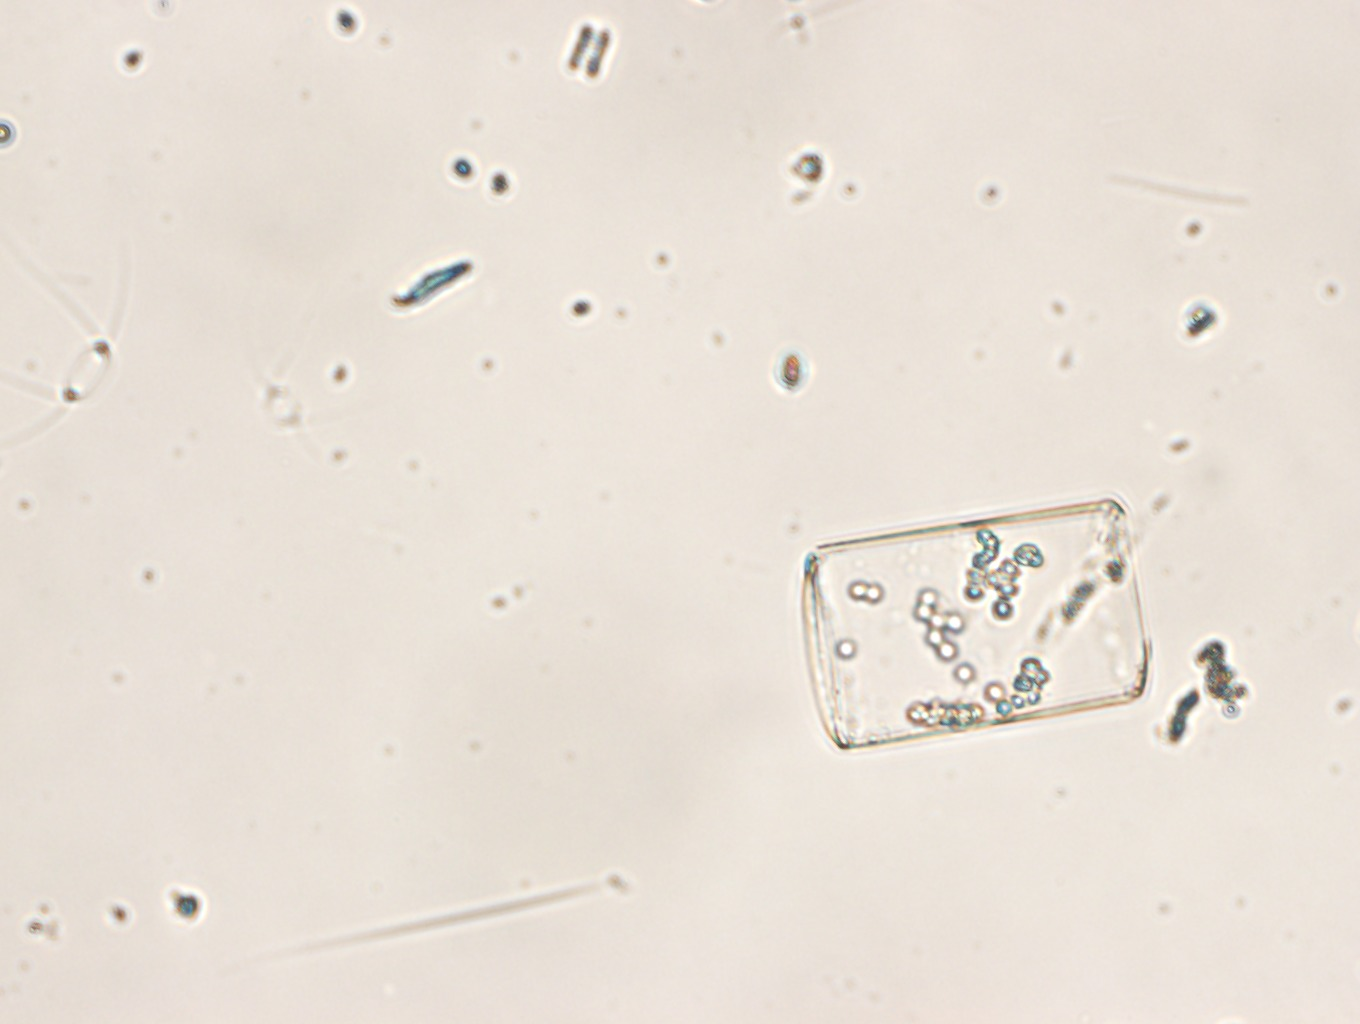guinardia flaccida: (801, 495, 1150, 750)
